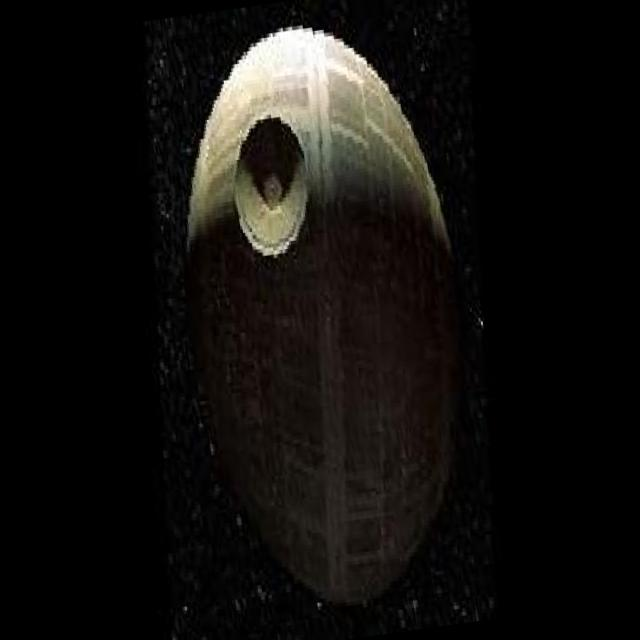Death Star: (136, 8, 506, 618)
